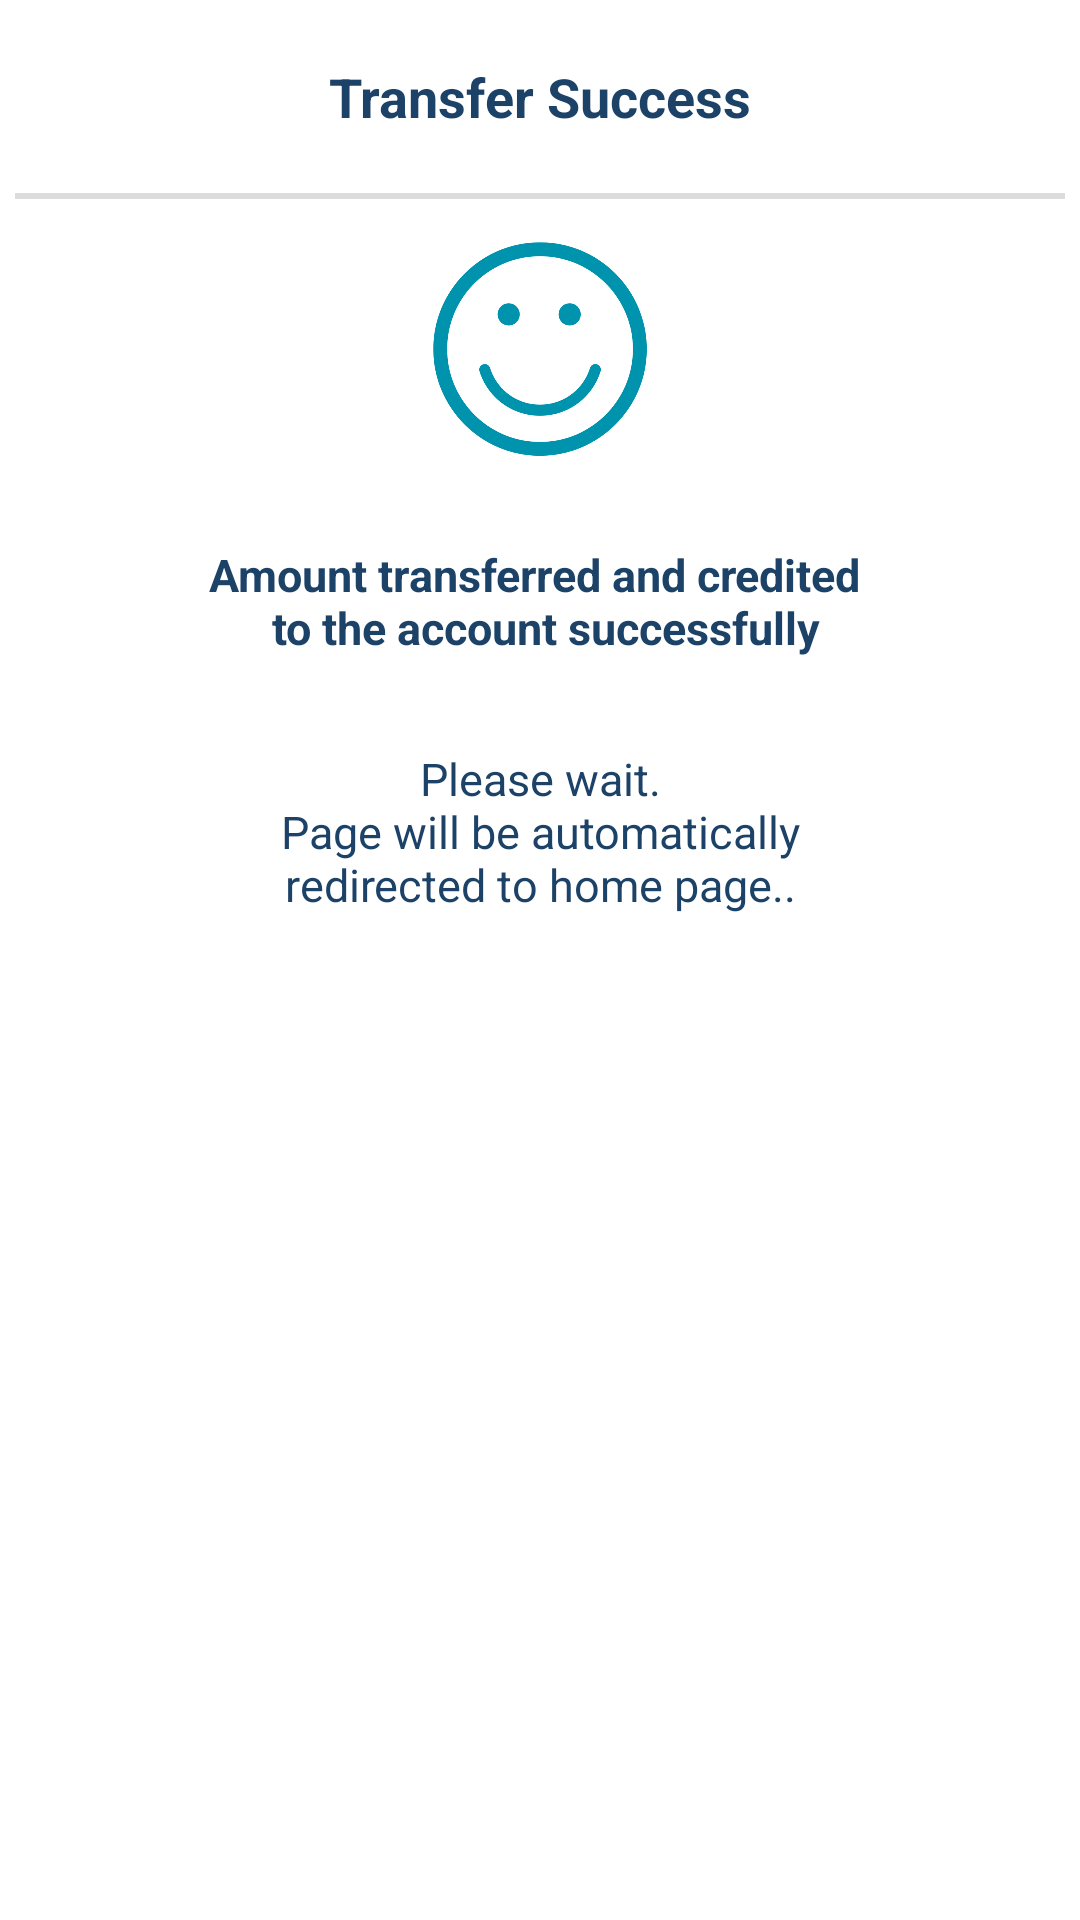

Icon click points for this 1080px x 1920px phone screenshot, format point (x, y):
smile: point (540, 349)
